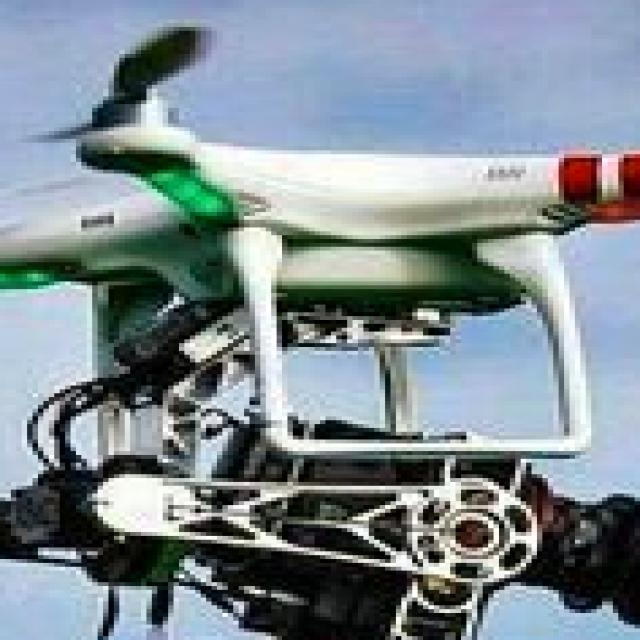drone: (0, 27, 640, 413)
